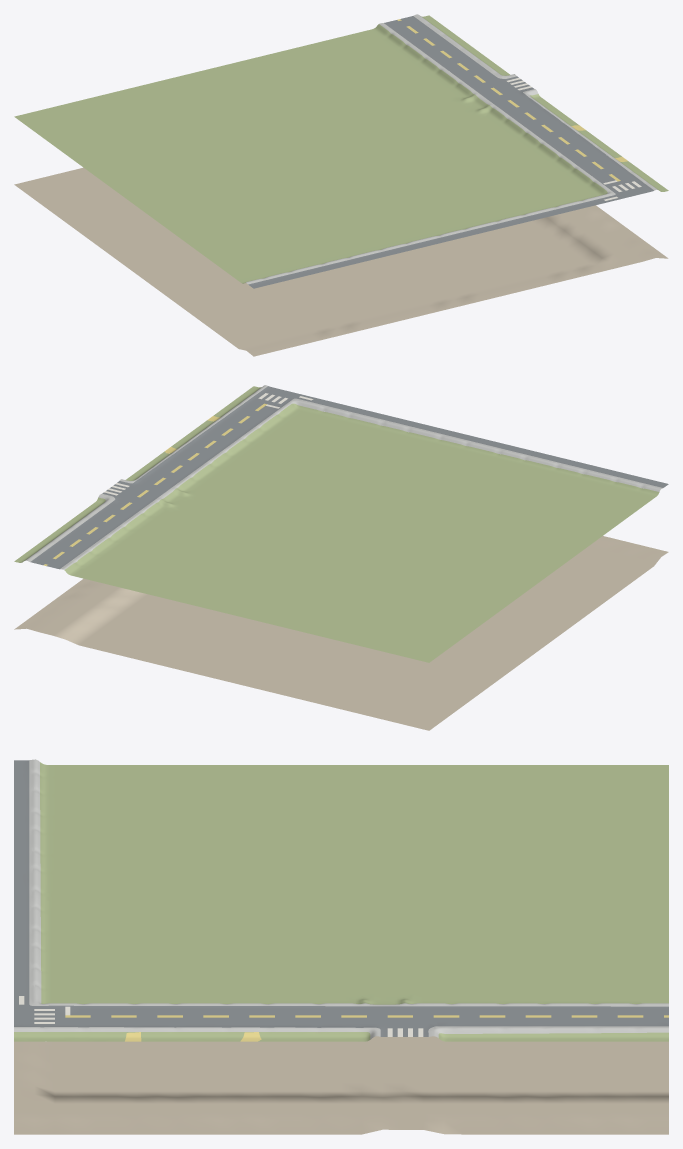
3 renders of one model, top to bottom at view 1: azimuth 30°, elevation 25°; view 2: azimuth 150°, elevation 25°; view 3: azimuth 270°, elevation 25°, orthographic. The views are drawn at different scales.
Parts seen in each view (by area): view 1: s_-11_-4__grass, s_-11_-4__soil, s_-11_-4__asphalt, s_-11_-4__stone_paving, s_-11_-4__yellow_marking; view 2: s_-11_-4__grass, s_-11_-4__soil, s_-11_-4__asphalt, s_-11_-4__stone_paving, s_-11_-4__yellow_marking; view 3: s_-11_-4__grass, s_-11_-4__soil, s_-11_-4__asphalt, s_-11_-4__stone_paving, s_-11_-4__yellow_marking.
Part boxes in pixels (left/top/right/bottom): s_-11_-4__grass: left=14, top=15, right=668, bottom=283; s_-11_-4__soil: left=14, top=167, right=668, bottom=356; s_-11_-4__asphalt: left=248, top=16, right=653, bottom=288; s_-11_-4__stone_paving: left=246, top=14, right=657, bottom=284; s_-11_-4__yellow_marking: left=397, top=19, right=627, bottom=181; s_-11_-4__grass: left=14, top=386, right=659, bottom=662; s_-11_-4__soil: left=14, top=536, right=668, bottom=730; s_-11_-4__asphalt: left=30, top=386, right=668, bottom=569; s_-11_-4__stone_paving: left=25, top=385, right=662, bottom=569; s_-11_-4__yellow_marking: left=43, top=403, right=266, bottom=565; s_-11_-4__grass: left=14, top=762, right=668, bottom=1041; s_-11_-4__soil: left=14, top=1005, right=668, bottom=1134; s_-11_-4__asphalt: left=14, top=760, right=668, bottom=1036; s_-11_-4__stone_paving: left=14, top=759, right=668, bottom=1039; s_-11_-4__yellow_marking: left=65, top=1015, right=668, bottom=1041.
Size of the model in its own units: 128 by 21.26 by 128.
